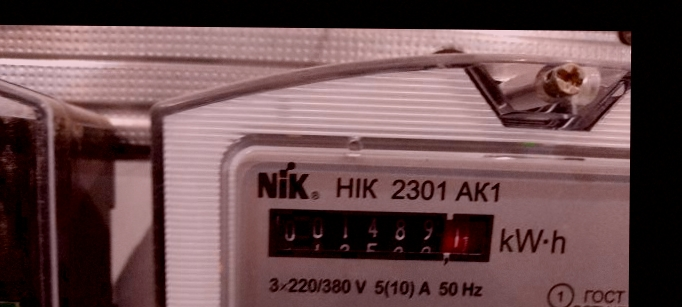0: (308, 213, 325, 239), (281, 217, 297, 242)
1: (337, 213, 352, 242), (449, 220, 462, 250)
4: (364, 214, 381, 240)
8: (390, 214, 408, 241)
9: (419, 216, 435, 242)
screen: (252, 197, 509, 275)
